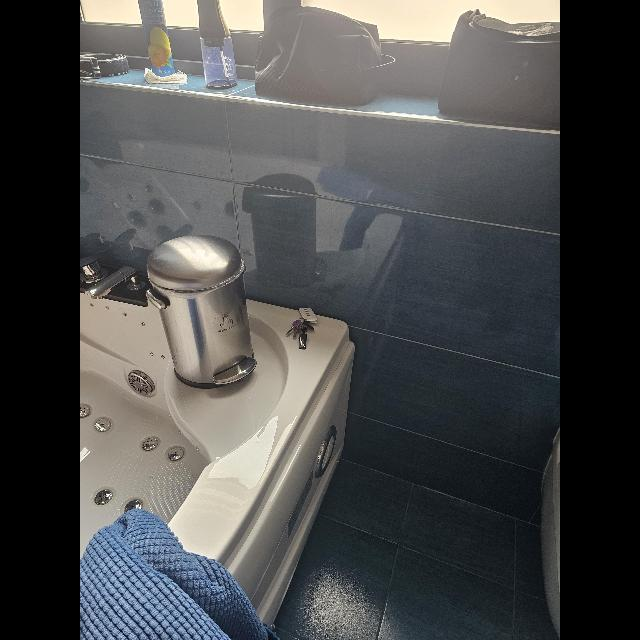Keys: (288, 310, 318, 350)
